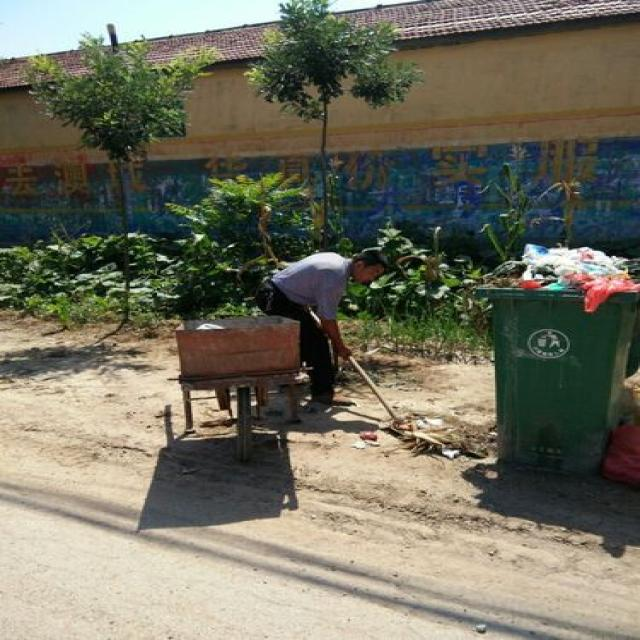garbage: (601, 421, 638, 481)
overflow: (471, 243, 638, 478)
